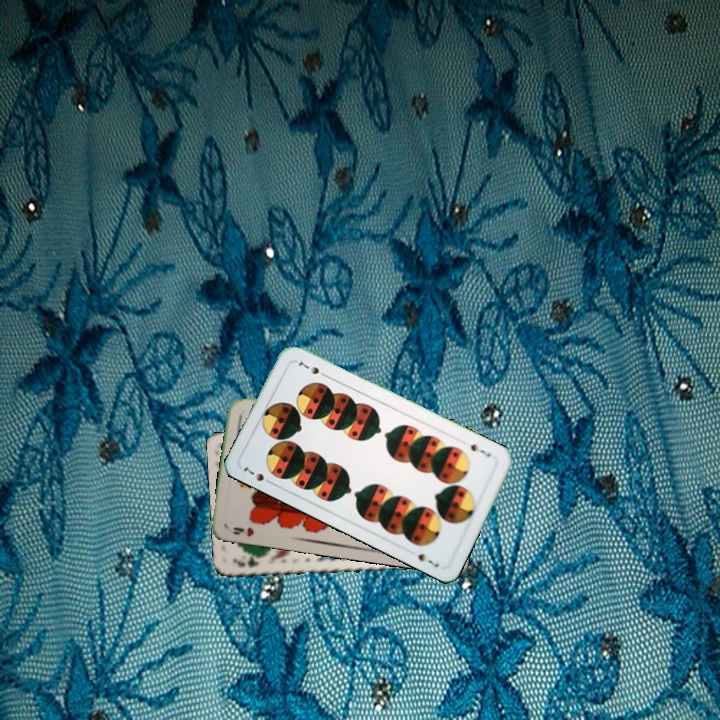GK: (228, 554, 266, 570)
H9: (229, 523, 257, 539)
S7: (239, 463, 276, 487), (466, 440, 493, 459)
